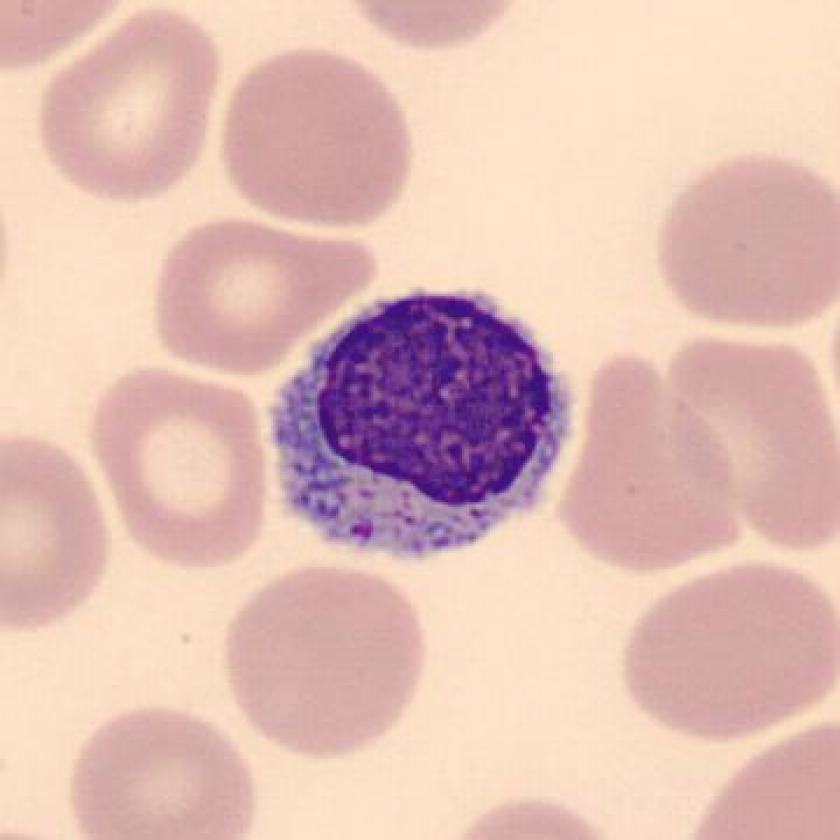lymphocyte: (251, 276, 589, 575)
